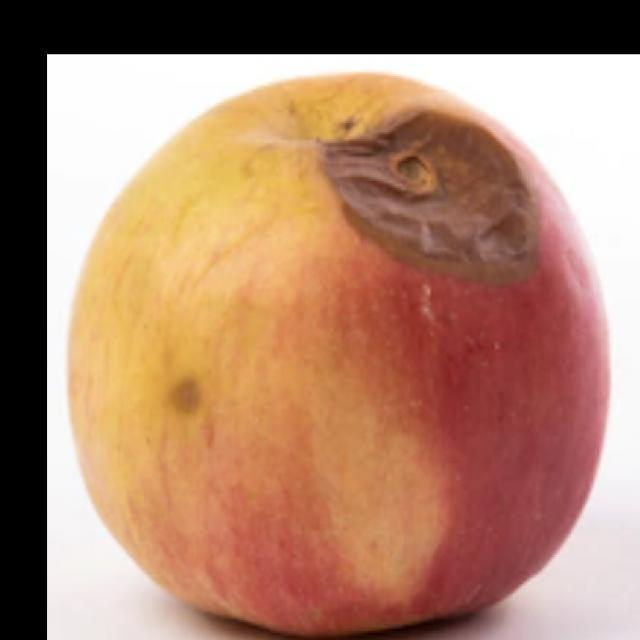Rotten: (93, 83, 588, 640)
